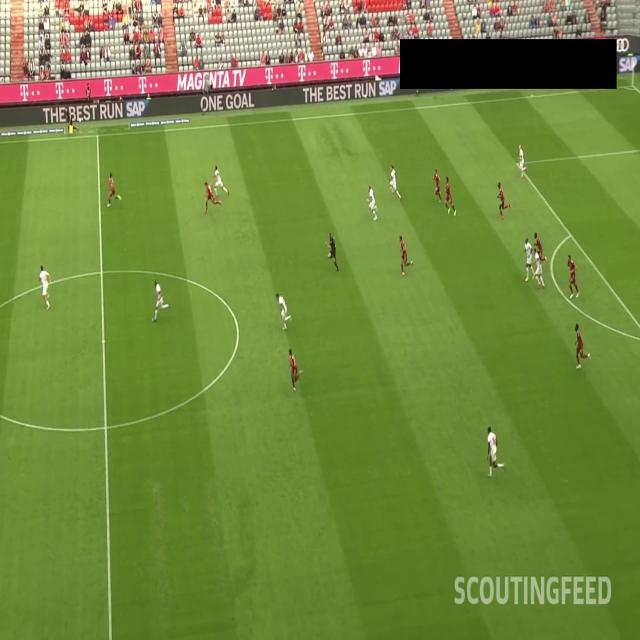player: (150, 278, 172, 324), (486, 428, 506, 478), (574, 318, 592, 369), (287, 344, 304, 393), (202, 175, 222, 216), (276, 290, 294, 331), (398, 234, 414, 278), (38, 264, 52, 313), (566, 252, 580, 301), (495, 180, 512, 220), (442, 175, 457, 218), (523, 234, 536, 281), (533, 228, 547, 271), (107, 169, 122, 209), (213, 163, 230, 198), (534, 248, 546, 290), (366, 182, 378, 222), (430, 166, 442, 204), (389, 163, 401, 199), (516, 143, 528, 177)
referee: (324, 230, 340, 275), (64, 107, 80, 137)
